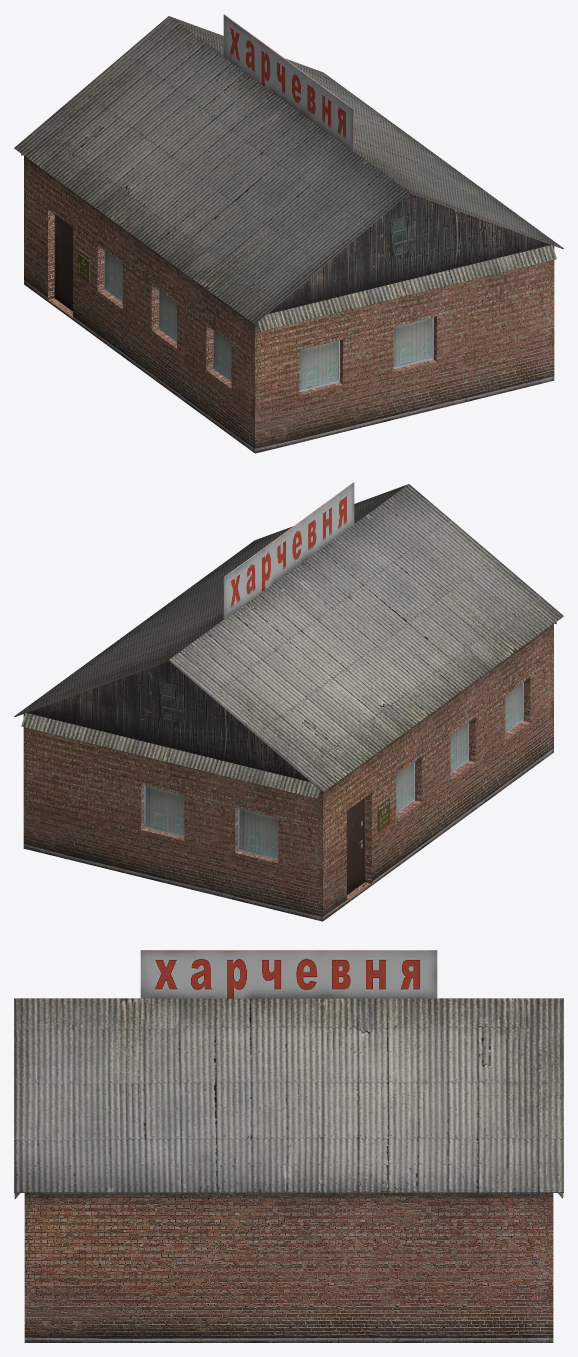
The model's file is r402_kafe_harchevnia.FBX.
3 views of the same model, one above another, from view 1: azimuth 30°, elevation 25°; view 2: azimuth 150°, elevation 25°; view 3: azimuth 270°, elevation 25° (orthographic). The views are drawn at different scales.
Parts seen in each view (by area): view 1: r402_kafe_harchevnia; view 2: r402_kafe_harchevnia; view 3: r402_kafe_harchevnia.
Boxes of the visible parts, x1=… form: r402_kafe_harchevnia: x1=14, y1=14, x2=563, y2=453; r402_kafe_harchevnia: x1=14, y1=482, x2=563, y2=921; r402_kafe_harchevnia: x1=14, y1=950, x2=563, y2=1342.
Bounding box in the file's own units: 713 × 960 × 596.
